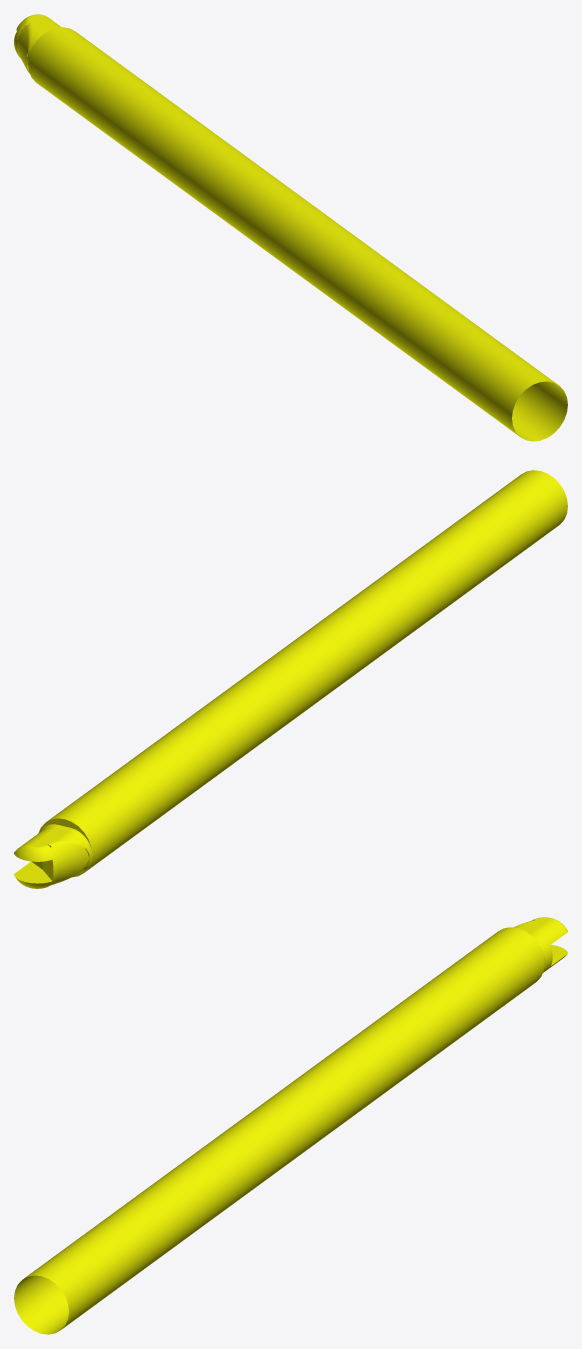
Rendered from body_9.obj.
3 views of the same model, one above another, from view 1: azimuth 30°, elevation 25°; view 2: azimuth 150°, elevation 25°; view 3: azimuth 330°, elevation 25° (orthographic).
Visible parts, largest first — view 1: 3DGeom-5; view 2: 3DGeom-5; view 3: 3DGeom-5.
Boxes of the visible parts, left/top/right/bottom form: 3DGeom-5: left=14, top=14, right=567, bottom=441; 3DGeom-5: left=14, top=470, right=567, bottom=888; 3DGeom-5: left=14, top=917, right=567, bottom=1334.
Size of the model in its own units: 0.08 by 0.08 by 1.28.
